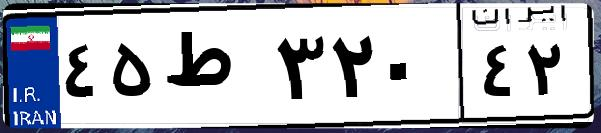0: (385, 28, 445, 110)
2: (330, 28, 385, 110), (525, 38, 570, 115)
3: (270, 28, 330, 110)
4: (57, 26, 110, 100), (475, 38, 525, 113)
5: (110, 28, 158, 98)
ط: (158, 20, 270, 120)
